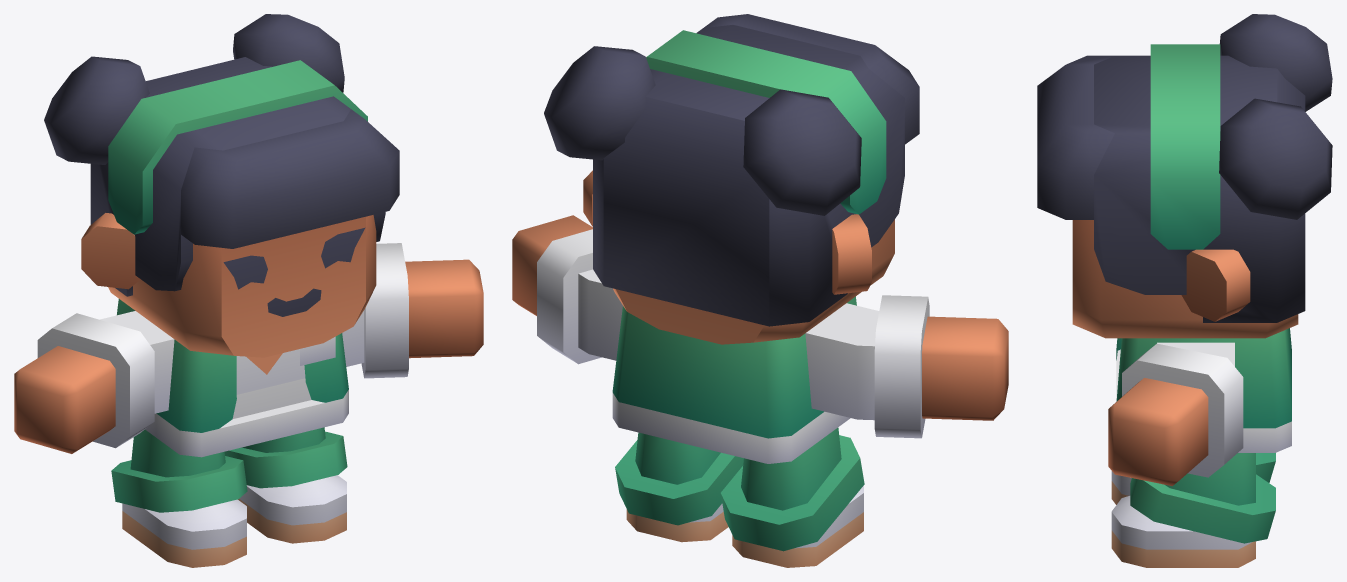
Rendered from character-employee.obj.
3 views of the same model, side by side, from view 1: azimuth 30°, elevation 25°; view 2: azimuth 150°, elevation 25°; view 3: azimuth 270°, elevation 25° (orthographic). The views are drawn at different scales.
Visible parts, largest first — view 1: head-mesh, body-mesh; view 2: head-mesh, body-mesh; view 3: head-mesh, body-mesh.
Part boxes in pixels (left/top/right/bottom): head-mesh: left=44, top=14, right=399, bottom=357; body-mesh: left=14, top=243, right=483, bottom=567; head-mesh: left=544, top=14, right=919, bottom=344; body-mesh: left=512, top=215, right=1008, bottom=567; head-mesh: left=1037, top=14, right=1332, bottom=338; body-mesh: left=1108, top=328, right=1291, bottom=567.
Size of the model in its own units: 0.7672 by 0.7234 by 0.4185.
Materials: 1 (1 with a texture image).
